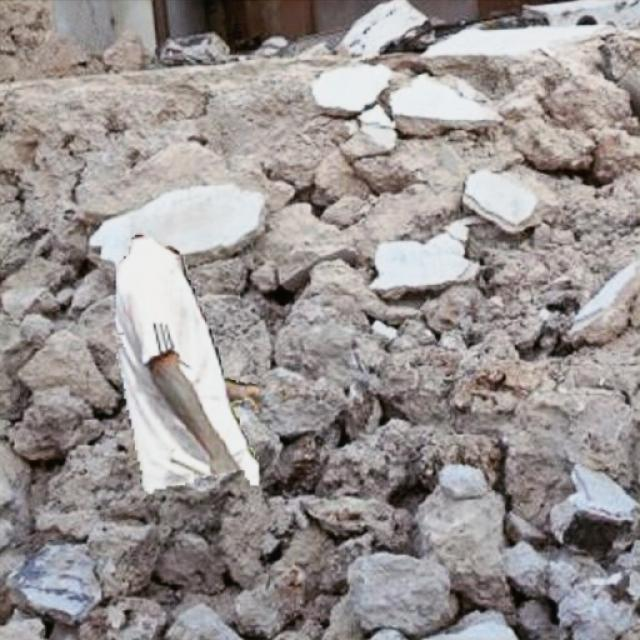Person in Rubble: (116, 235, 258, 493)
